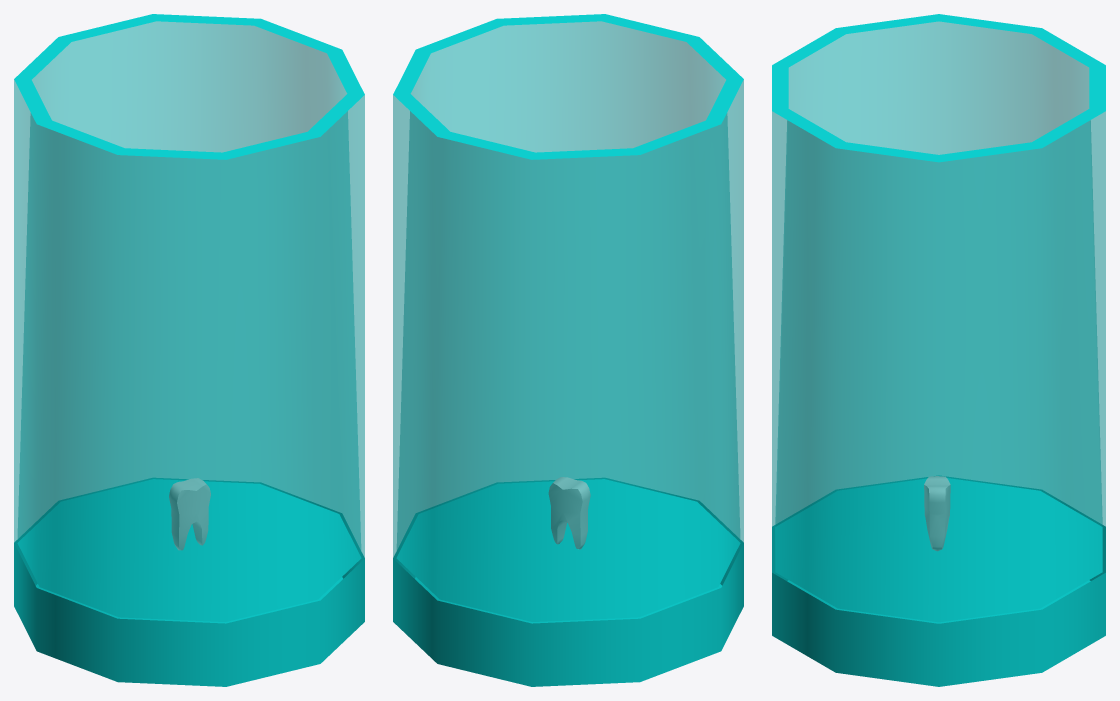
File: ToothGlass.fbx
3 views of the same model, side by side, from view 1: azimuth 30°, elevation 25°; view 2: azimuth 150°, elevation 25°; view 3: azimuth 270°, elevation 25° (orthographic).
Parts seen in each view (by area): view 1: WaterGlass, Tooth; view 2: WaterGlass, Tooth; view 3: WaterGlass, Tooth.
Part boxes in pixels (box(x1,y1,x2,y2)): WaterGlass: box(14, 14, 364, 686); Tooth: box(169, 478, 210, 550); WaterGlass: box(393, 14, 743, 686); Tooth: box(548, 477, 590, 549); WaterGlass: box(772, 14, 1105, 686); Tooth: box(924, 476, 950, 551).
Size of the model in its own units: 89.68 by 148 by 85.29.
